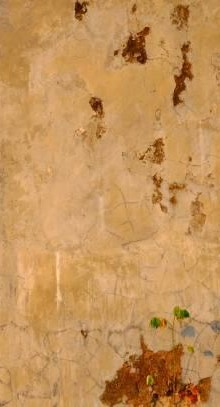Corrosion: (99, 334, 213, 407), (112, 25, 151, 65), (172, 39, 193, 107), (184, 191, 207, 235), (138, 137, 166, 164), (151, 172, 169, 214), (168, 3, 190, 32), (168, 181, 187, 205), (88, 96, 104, 119), (73, 1, 89, 23), (80, 328, 88, 339), (131, 2, 137, 13)
